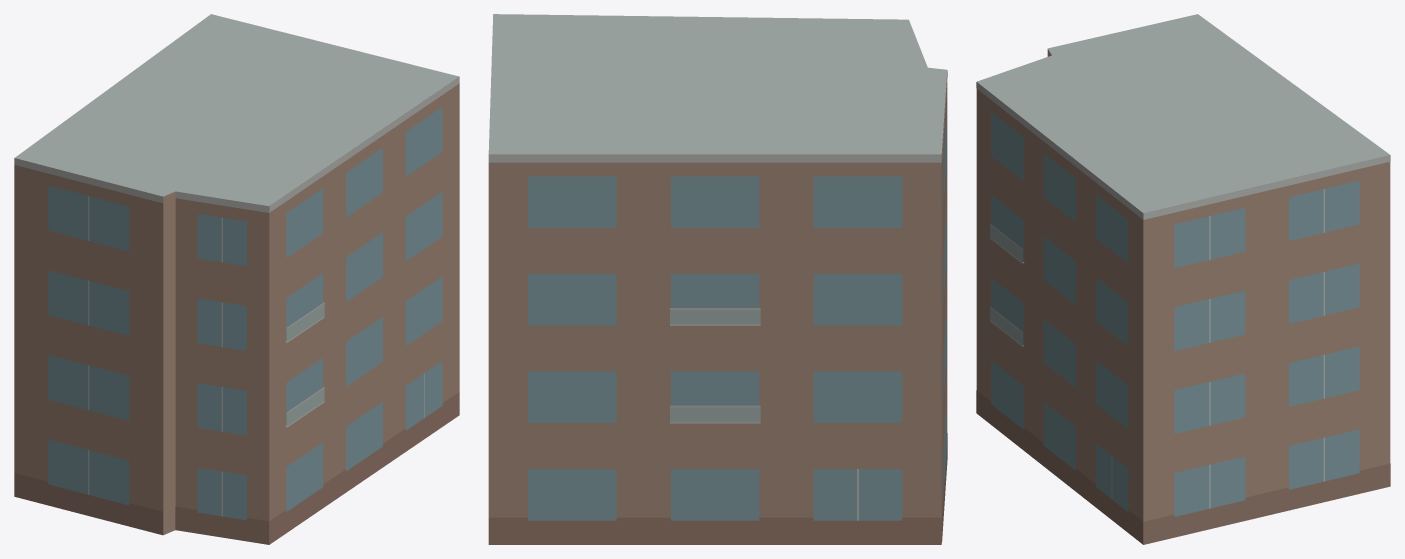
File: survey-upis-32652037.glb
3 renders of one model, left to right at view 1: azimuth 30°, elevation 25°; view 2: azimuth 150°, elevation 25°; view 3: azimuth 270°, elevation 25°, orthographic. The views are drawn at different scales.
Parts seen in each view (by area): view 1: survey-upis-32652037.tmp; view 2: survey-upis-32652037.tmp; view 3: survey-upis-32652037.tmp.
Boxes of the visible parts, box(x1,y1,x2,y2) form: survey-upis-32652037.tmp: box(14, 14, 459, 544); survey-upis-32652037.tmp: box(488, 14, 947, 544); survey-upis-32652037.tmp: box(976, 14, 1390, 544).
Size of the model in its own units: 15.74 by 12.2 by 13.82.
